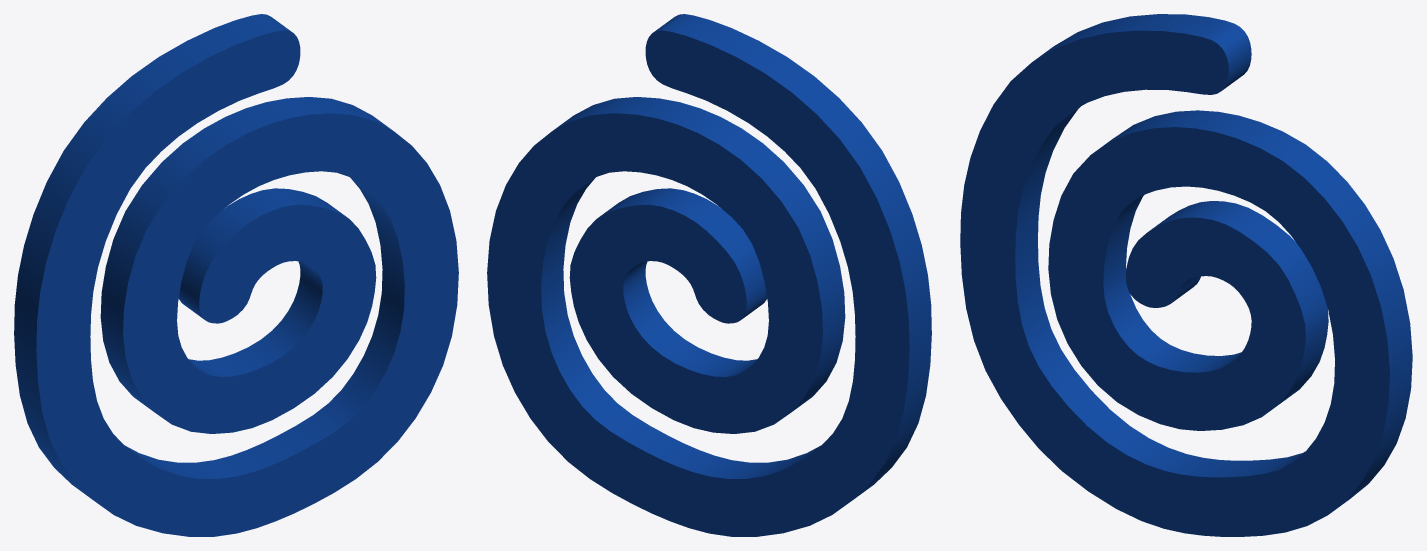
Rendered from cyclone.fbx.
The picture shows the model from 3 angles, left to right: view 1: azimuth 30°, elevation 25°; view 2: azimuth 150°, elevation 25°; view 3: azimuth 330°, elevation 25°; orthographic projection.
Parts seen in each view (by area): view 1: Plane.298; view 2: Plane.298; view 3: Plane.298.
Part boxes in pixels (x1=…): Plane.298: x1=14, y1=14, x2=458, y2=536; Plane.298: x1=487, y1=14, x2=931, y2=536; Plane.298: x1=960, y1=14, x2=1412, y2=536.
Size of the model in its own units: 191 by 213 by 17.51.
1 material, 1 textured.
